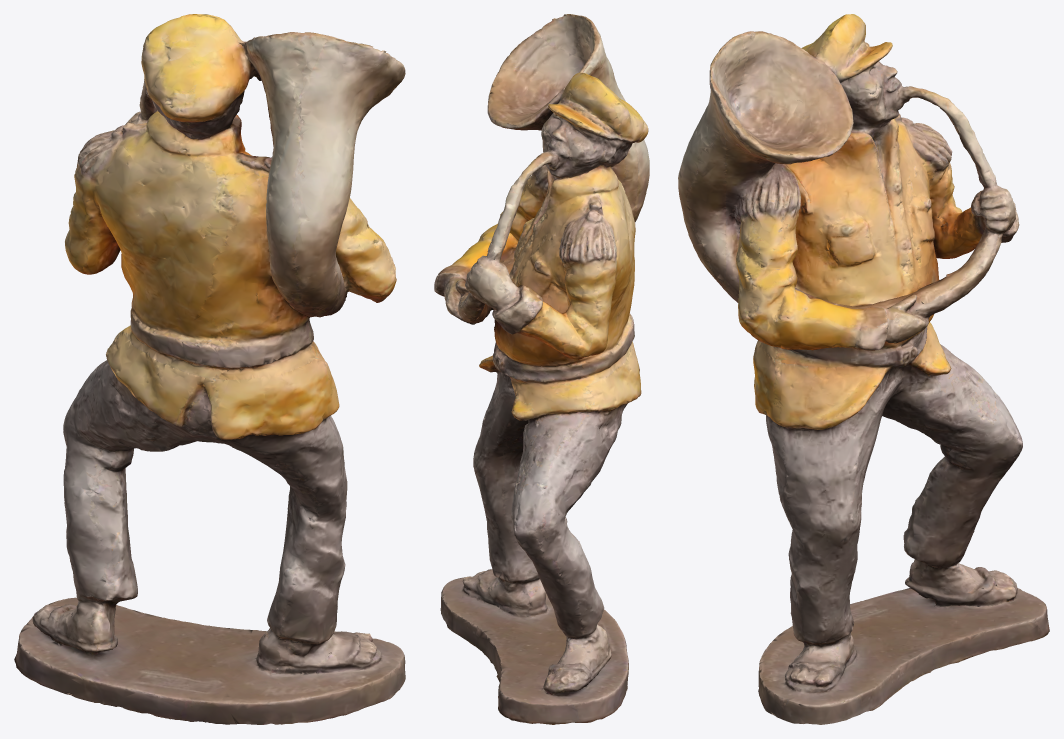
The model's file is Trumpet_Musician_Orange_LPoly.glb.
3 renders of one model, left to right at view 1: azimuth 30°, elevation 25°; view 2: azimuth 150°, elevation 25°; view 3: azimuth 270°, elevation 25°, orthographic. The views are drawn at different scales.
Visible parts, largest first — view 1: Trumpet_Musician_Orange; view 2: Trumpet_Musician_Orange; view 3: Trumpet_Musician_Orange.
Boxes of the visible parts, left/top/right/bottom form: Trumpet_Musician_Orange: left=14, top=14, right=405, bottom=724; Trumpet_Musician_Orange: left=434, top=14, right=649, bottom=724; Trumpet_Musician_Orange: left=678, top=14, right=1049, bottom=724.
Bounding box in the file's own units: 8.48 × 19.75 × 10.47.
1 material, 1 textured.
